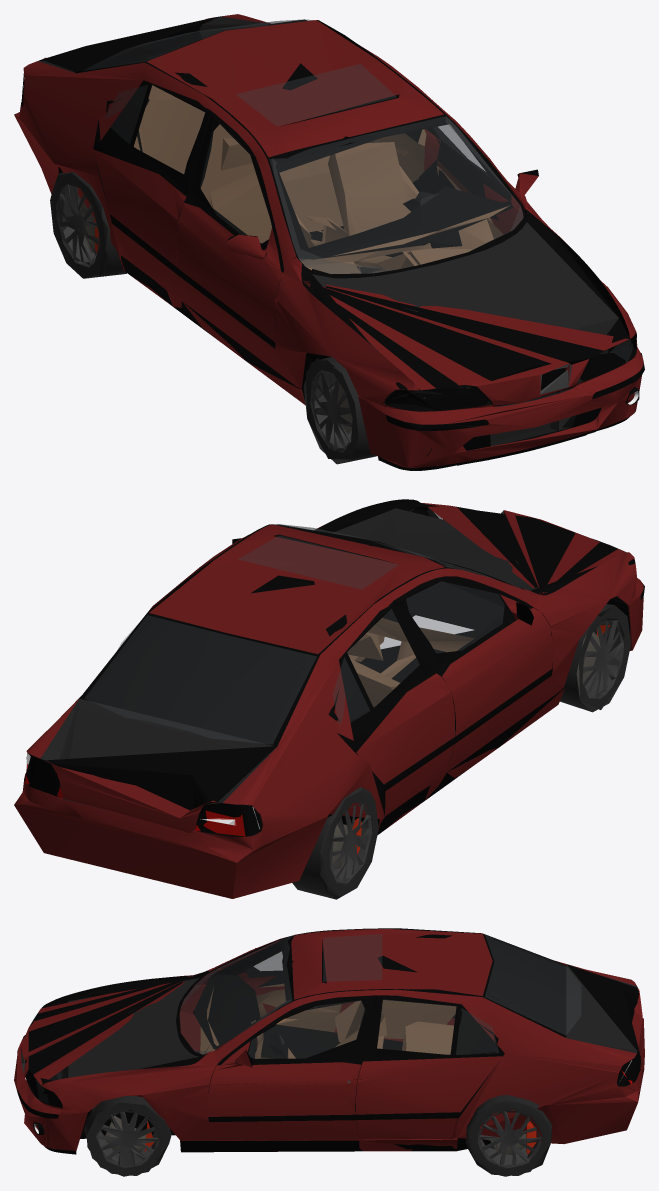
Rendered from bmw-m5-e39_lod.glb.
3 renders of one model, top to bottom at view 1: azimuth 30°, elevation 25°; view 2: azimuth 150°, elevation 25°; view 3: azimuth 270°, elevation 25°, orthographic. The views are drawn at different scales.
Visible parts, largest first — view 1: body, interior, wheel_3, wheel_1; view 2: body, interior, wheel_3, wheel_1; view 3: body, interior, wheel_0, wheel_2.
Boxes of the visible parts, x1,y1,x2,y2 form: body: (14, 14, 644, 470); interior: (87, 19, 513, 273); wheel_3: (50, 172, 126, 278); wheel_1: (303, 356, 377, 464); body: (14, 499, 644, 898); interior: (97, 524, 504, 740); wheel_3: (292, 787, 378, 899); wheel_1: (560, 604, 630, 712); body: (14, 928, 644, 1154); interior: (193, 934, 563, 1058); wheel_0: (84, 1096, 171, 1176); wheel_2: (466, 1095, 551, 1176).
Size of the model in its own units: 1.99 by 1.41 by 4.69.
Materials: 5 (4 with a texture image).
